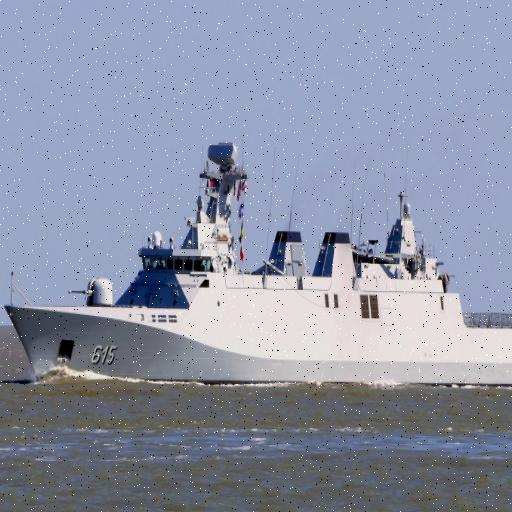Fragata: (2, 142, 512, 389)
